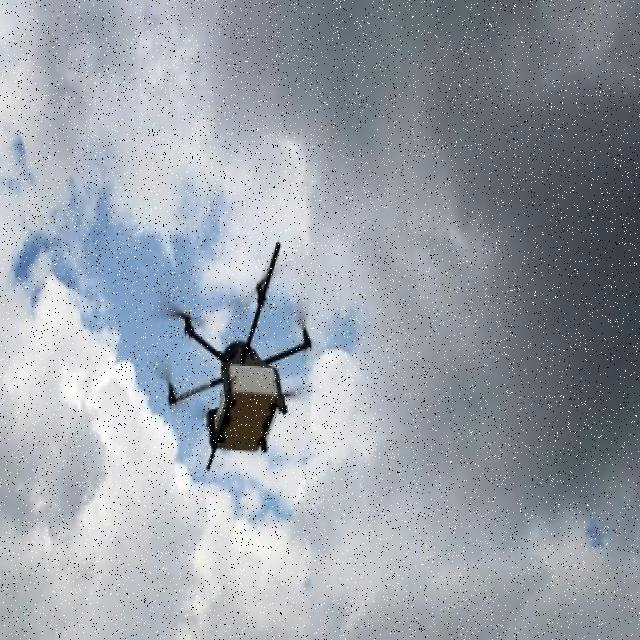UAV: (166, 281, 312, 475)
